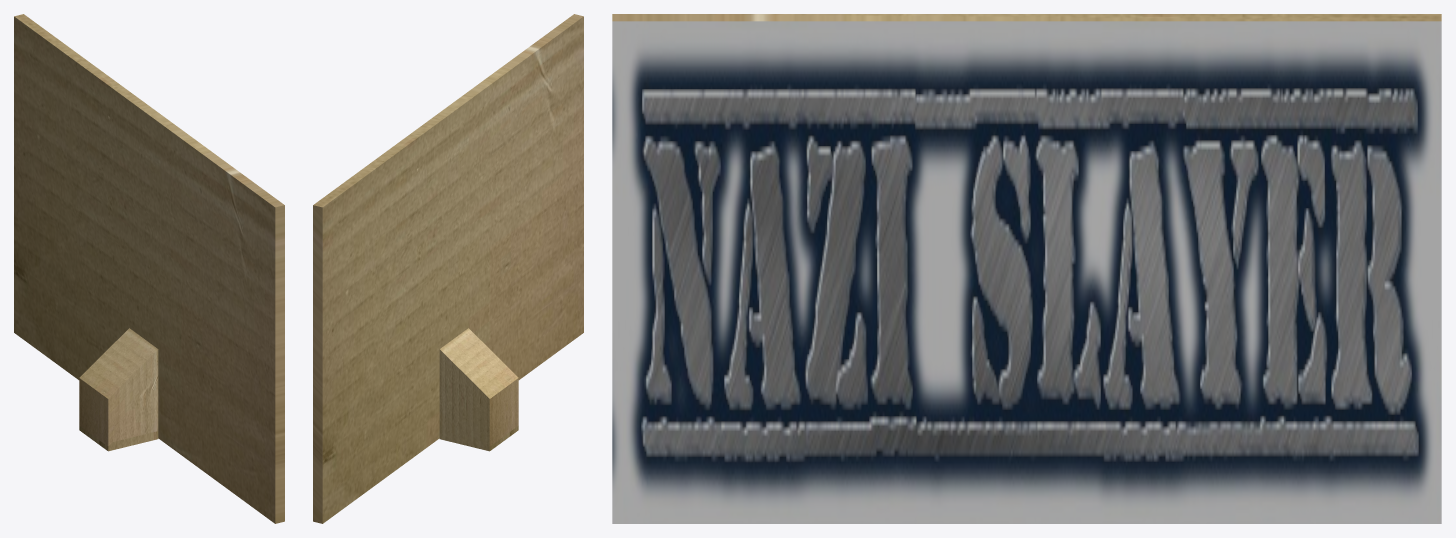
File: NaziSlayer.fbx
The picture shows the model from 3 angles, left to right: view 1: azimuth 30°, elevation 25°; view 2: azimuth 150°, elevation 25°; view 3: azimuth 270°, elevation 25°; orthographic projection. The views are drawn at different scales.
Visible parts, largest first — view 1: polySurface1; view 2: polySurface1; view 3: polySurface1.
Boxes of the visible parts, left/top/right/bottom form: polySurface1: left=14, top=14, right=284, bottom=523; polySurface1: left=313, top=14, right=583, bottom=523; polySurface1: left=612, top=14, right=1441, bottom=523.
Size of the model in its own units: 0.8432 by 4.21 by 6.3.
